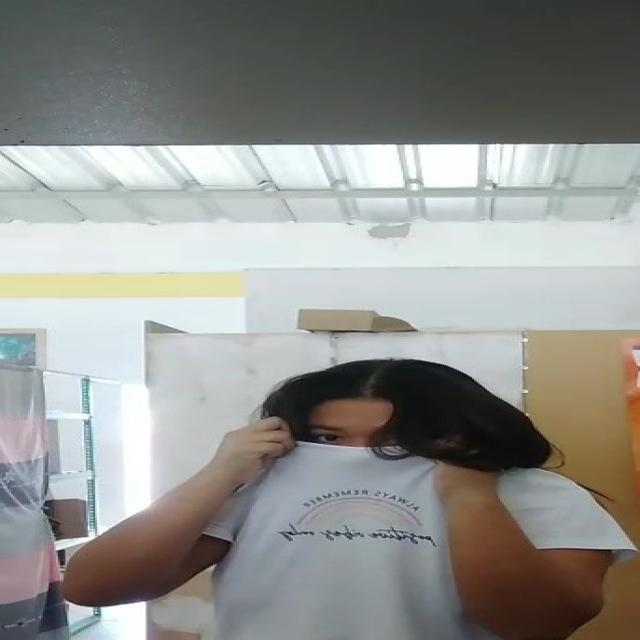8_ropa_rostro: (200, 415, 524, 522)
